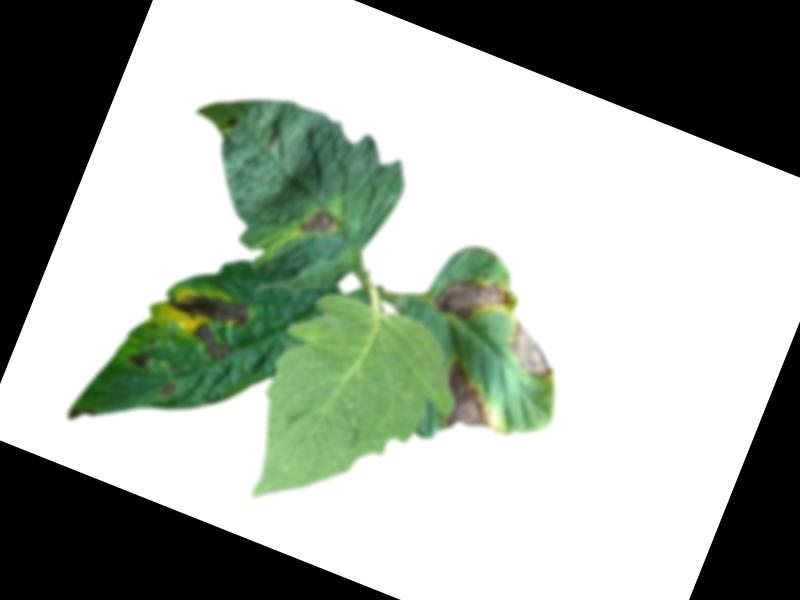Early_blight: (152, 275, 256, 368), (428, 358, 518, 447), (431, 264, 520, 339), (499, 316, 569, 384), (298, 205, 338, 245), (127, 349, 153, 373), (160, 381, 177, 400)
healthy: (223, 261, 484, 555), (224, 117, 240, 132)
